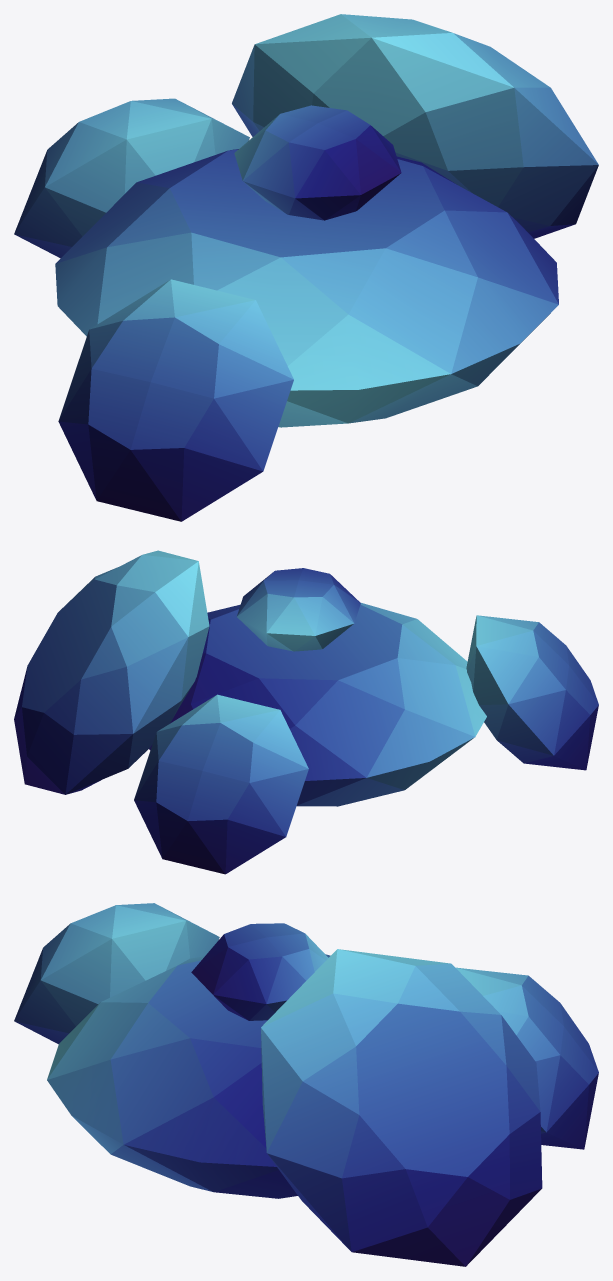
Rendered from Sapphire_05.glb.
The picture shows the model from 3 angles, top to bottom: view 1: azimuth 30°, elevation 25°; view 2: azimuth 150°, elevation 25°; view 3: azimuth 270°, elevation 25°; orthographic projection. The views are drawn at different scales.
Parts seen in each view (by area): view 1: Sapphire_05; view 2: Sapphire_05; view 3: Sapphire_05.
Boxes of the visible parts, box(x1,y1,x2,y2) form: Sapphire_05: box(14, 14, 598, 521); Sapphire_05: box(14, 550, 598, 874); Sapphire_05: box(14, 903, 598, 1266).
Bounding box in the file's own units: 0.7191 × 0.3182 × 0.6764.
Materials: 1 (1 with a texture image).
